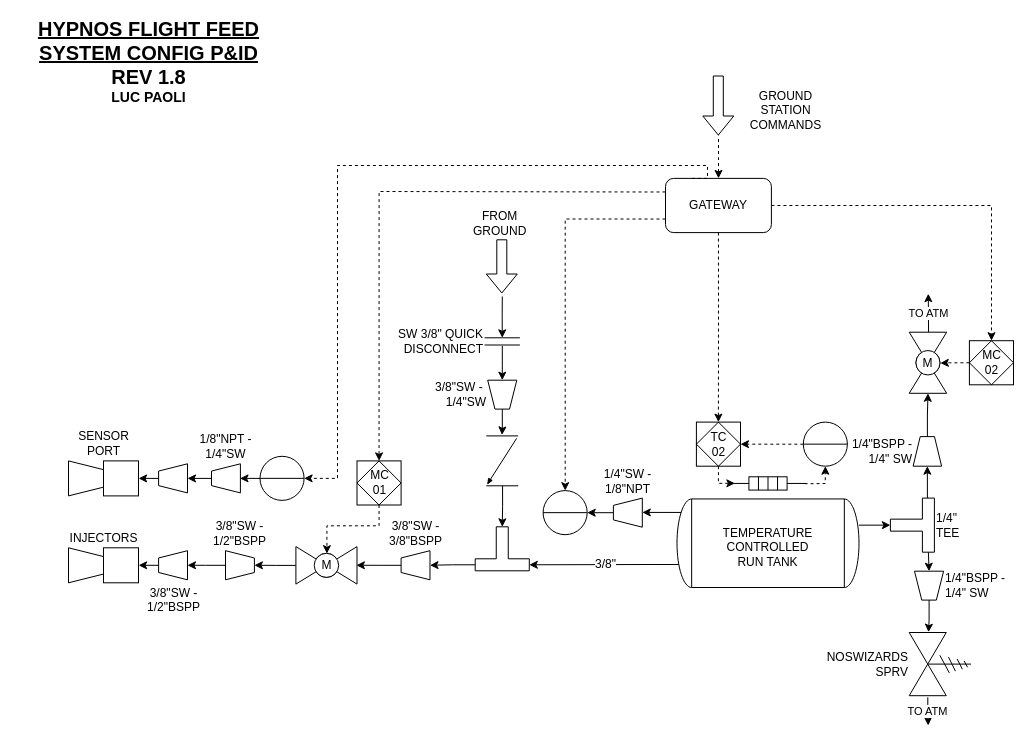
This 1031x751 diagram has some shape labels left out. Each missing label, with the box of its shape:
1/2" THROTTLE BALL VALVE: (295, 546, 357, 584)
1/4" CHECK VALVE: (485, 435, 518, 486)
1/4" VENT BALL VALVE: (908, 331, 947, 393)
1/4"SW - 1/4"BSPP: (158, 463, 188, 493)
3/8"- 1/4"-3/8" TEE: (474, 526, 529, 571)
PT 01: (259, 455, 304, 500)
PT 04: (542, 490, 587, 535)
TT 02: (802, 421, 847, 466)
